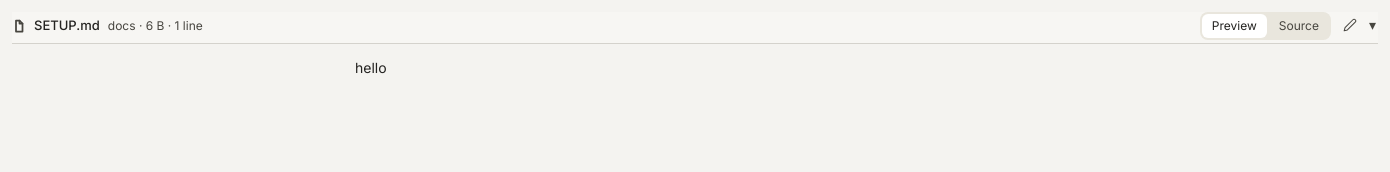
it: WorkspaceFileTab header › switches to Source when its segment is clicked
The width and height of the screenshot is (1390, 172).
Click the button with class "workspace-file-tab-seg-button" showing "Source".
click(1299, 26)  # box [1269,14,1329,38]
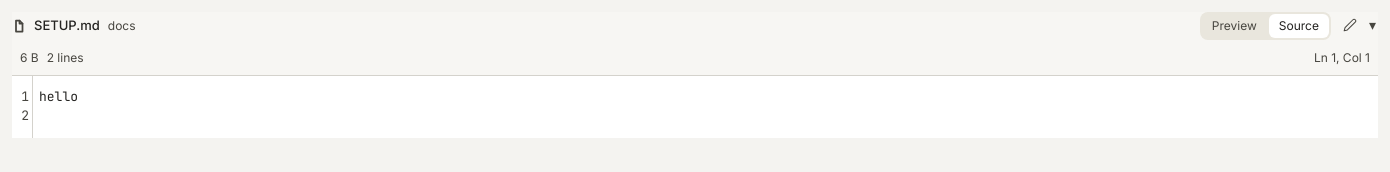
Result: the element with test id "file-source-editor" is shown at [12,76,1378,138]
Result: the element with class "workspace-file-tab-preview" is gone
